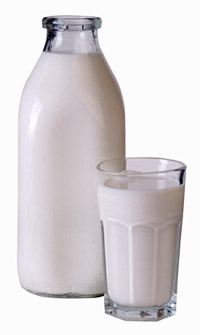glass of milk: (20, 51, 127, 299), (97, 155, 182, 320)
